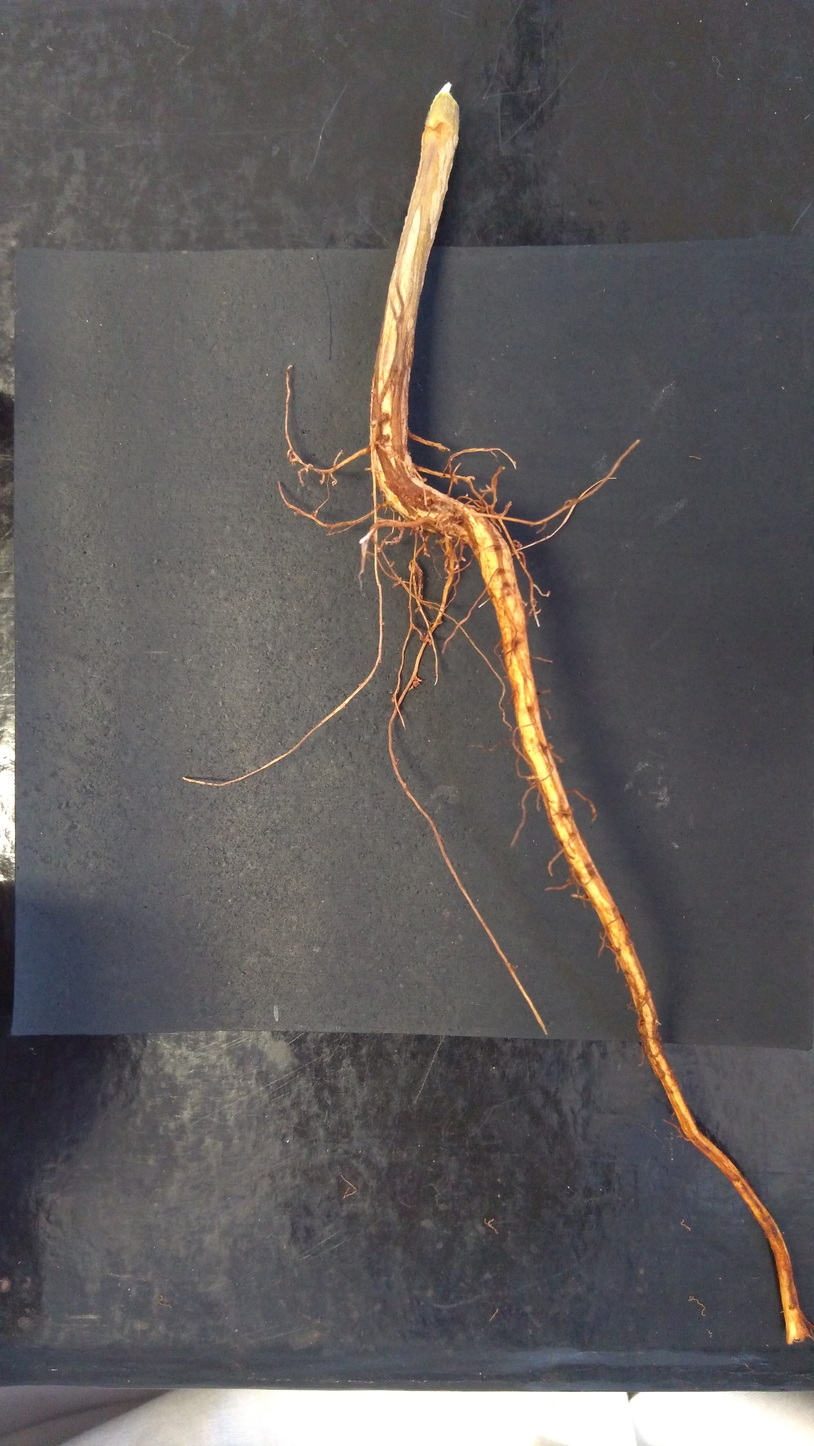nodule: (437, 510, 461, 534), (412, 524, 437, 538), (423, 496, 432, 506), (479, 507, 486, 513), (376, 547, 381, 553)
